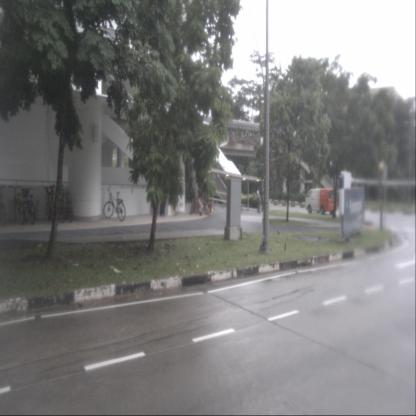human-pedestrian-adult: (160, 177, 168, 217), (257, 188, 261, 213), (261, 188, 265, 211)
vehicle-bicycle: (44, 185, 66, 223), (103, 187, 126, 222), (58, 184, 74, 222), (21, 188, 36, 225), (10, 186, 24, 224), (0, 186, 6, 226)
vehicle-car: (305, 188, 338, 216)
